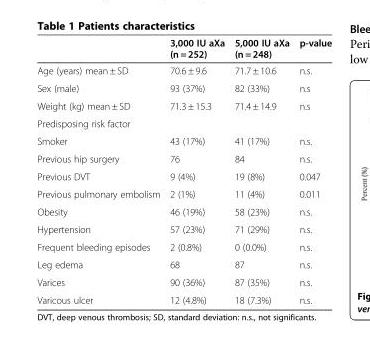table: (36, 36, 331, 305)
table column: (36, 36, 164, 305), (164, 36, 229, 305), (229, 36, 293, 305), (293, 36, 331, 305)
table column header: (36, 36, 331, 61)
table projected row header: (36, 114, 331, 131)
table row: (36, 36, 331, 61), (36, 61, 331, 79), (36, 96, 331, 114), (36, 131, 331, 149), (36, 149, 331, 167), (36, 184, 331, 202), (36, 202, 331, 220), (36, 237, 331, 255), (36, 255, 331, 273), (36, 79, 331, 96), (36, 114, 331, 131), (36, 167, 331, 184), (36, 220, 331, 237), (36, 273, 331, 290), (36, 290, 331, 305)
